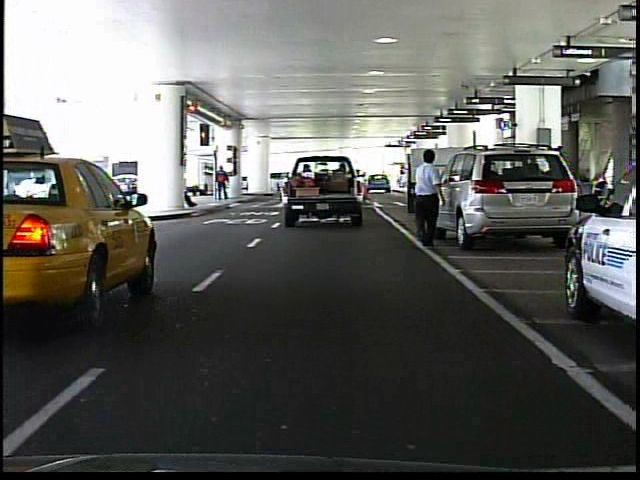person: (405, 145, 451, 249), (214, 163, 234, 203)
